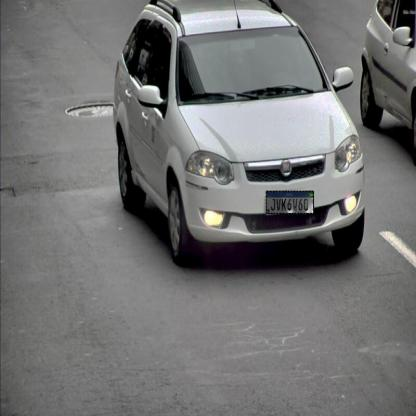PlacaM: (266, 191, 314, 214)
